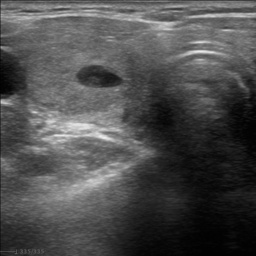mass: (27, 41, 131, 114)
